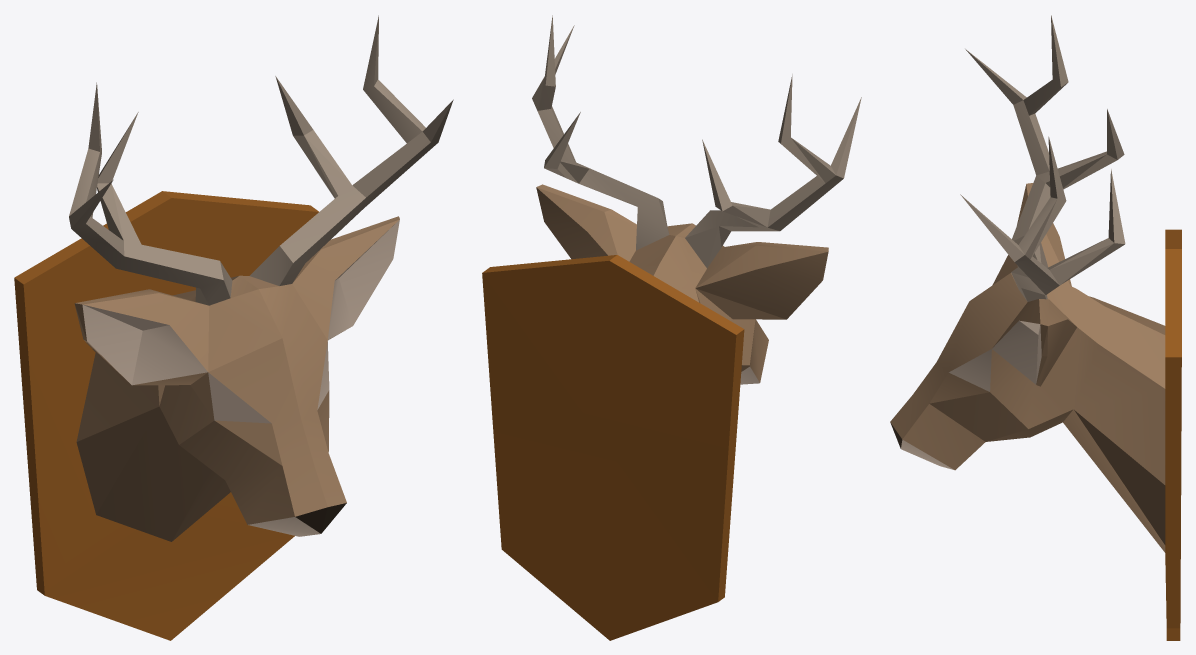
Rendered from Decoration_Deer_Head_Mantle_Stuffed_01.fbx.
3 views of the same model, side by side, from view 1: azimuth 30°, elevation 25°; view 2: azimuth 150°, elevation 25°; view 3: azimuth 270°, elevation 25° (orthographic). The views are drawn at different scales.
Visible parts, largest first — view 1: Decoration_Deer_Head_Mantle_Stuffed_01; view 2: Decoration_Deer_Head_Mantle_Stuffed_01; view 3: Decoration_Deer_Head_Mantle_Stuffed_01.
Boxes of the visible parts, x1,y1,x2,y2 form: Decoration_Deer_Head_Mantle_Stuffed_01: [14, 15, 453, 640]; Decoration_Deer_Head_Mantle_Stuffed_01: [482, 15, 861, 640]; Decoration_Deer_Head_Mantle_Stuffed_01: [890, 15, 1181, 640].
Size of the model in its own units: 25.78 by 43.43 by 20.26.
